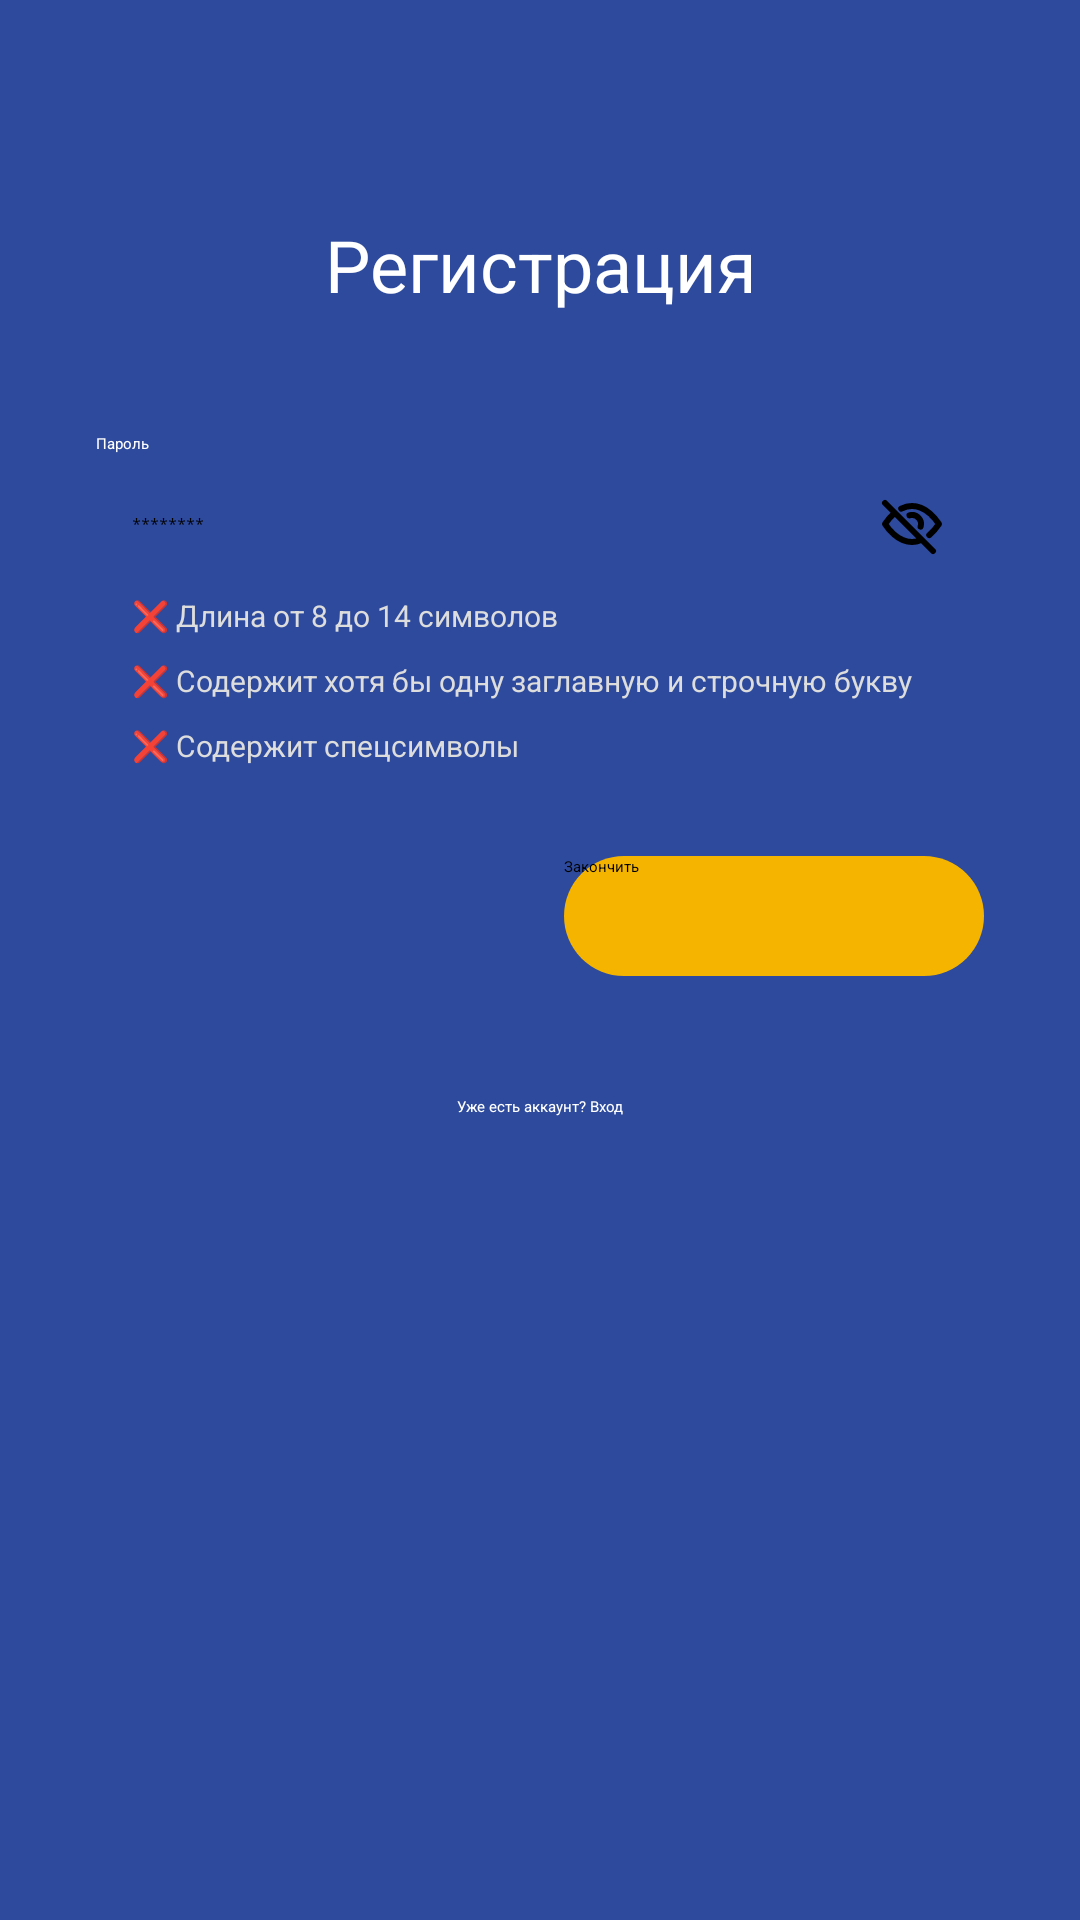

Icon click points for this 1080px×1920px phone screenshot, format (x,y):
eye close: (912,527)
